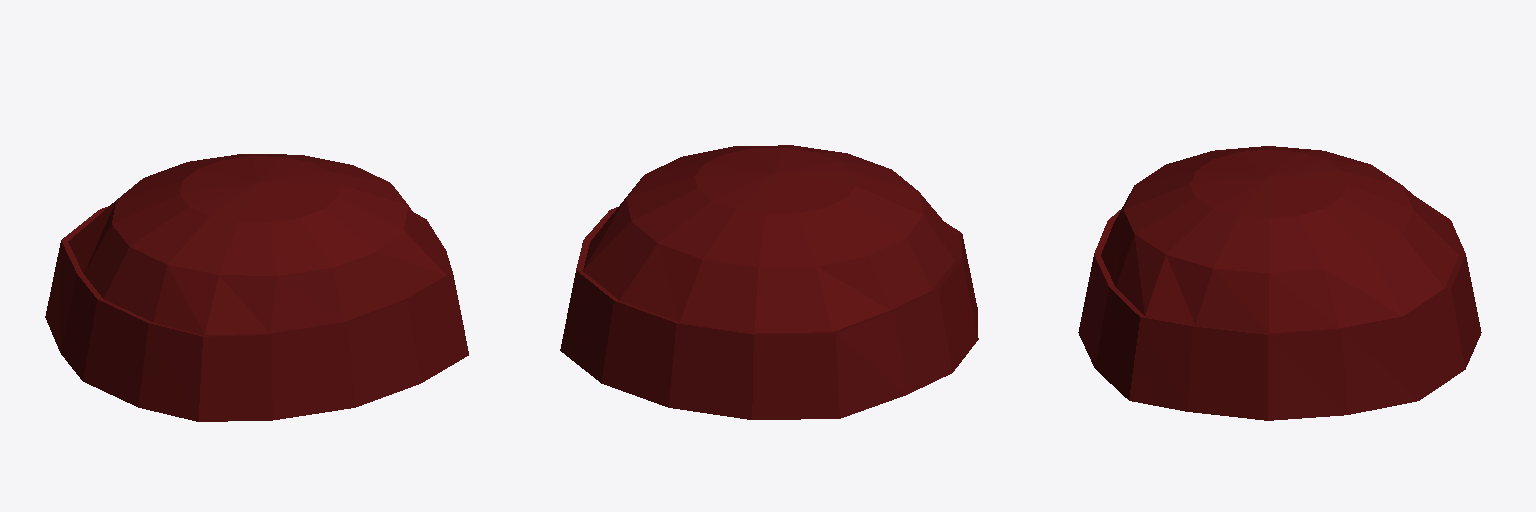
The model's file is gorro.obj.
3 renders of one model, left to right at view 1: azimuth 30°, elevation 25°; view 2: azimuth 150°, elevation 25°; view 3: azimuth 270°, elevation 25°, orthographic.
Parts seen in each view (by area): view 1: objSphere01; view 2: objSphere01; view 3: objSphere01.
Part boxes in pixels (bbox=[...]): objSphere01: bbox=[45, 154, 468, 421]; objSphere01: bbox=[560, 145, 978, 419]; objSphere01: bbox=[1078, 146, 1481, 420].
Bounding box in the file's own units: 325 × 137 × 317.